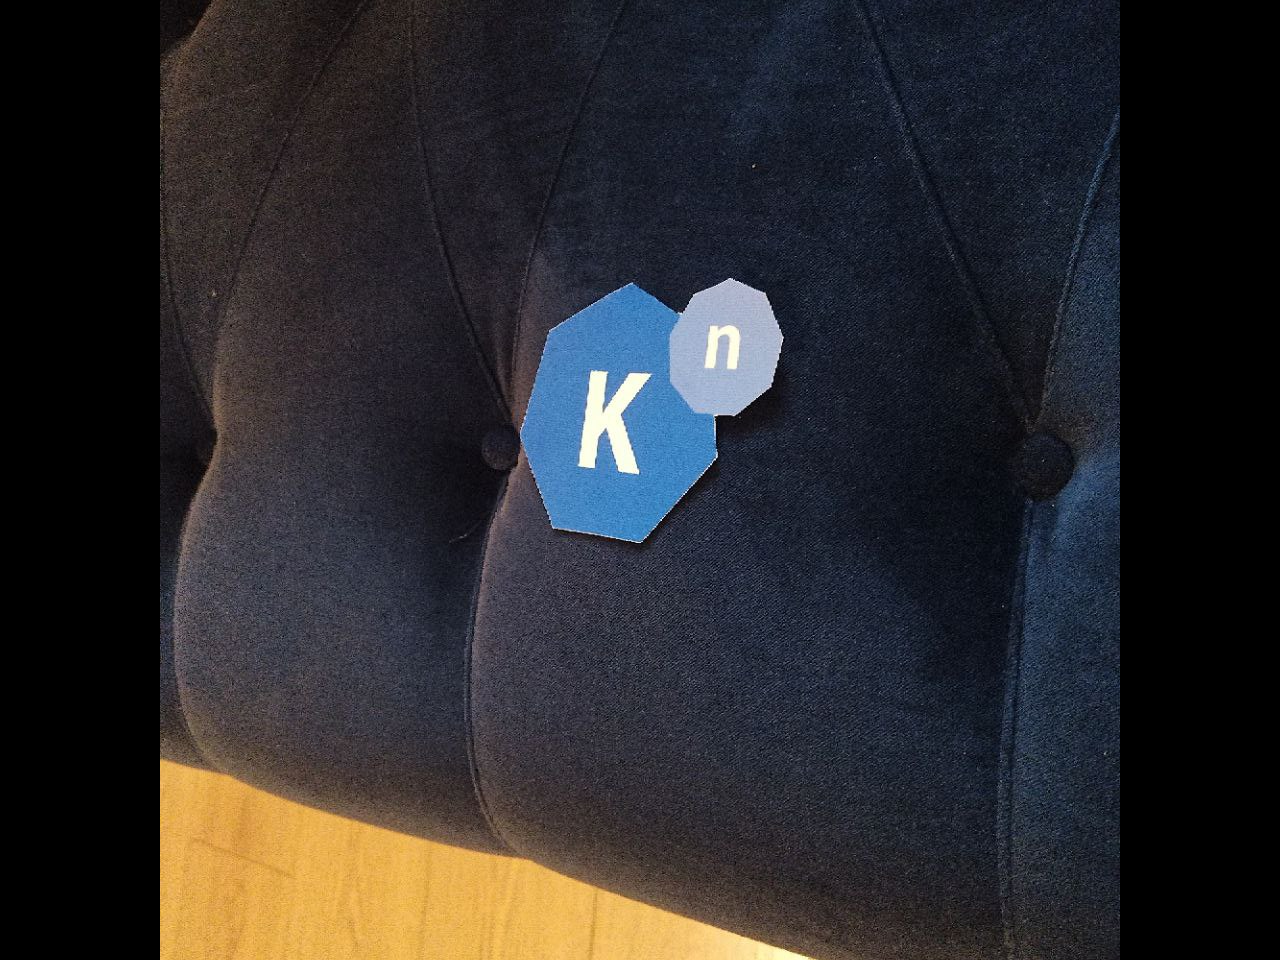knative: (518, 274, 789, 547)
